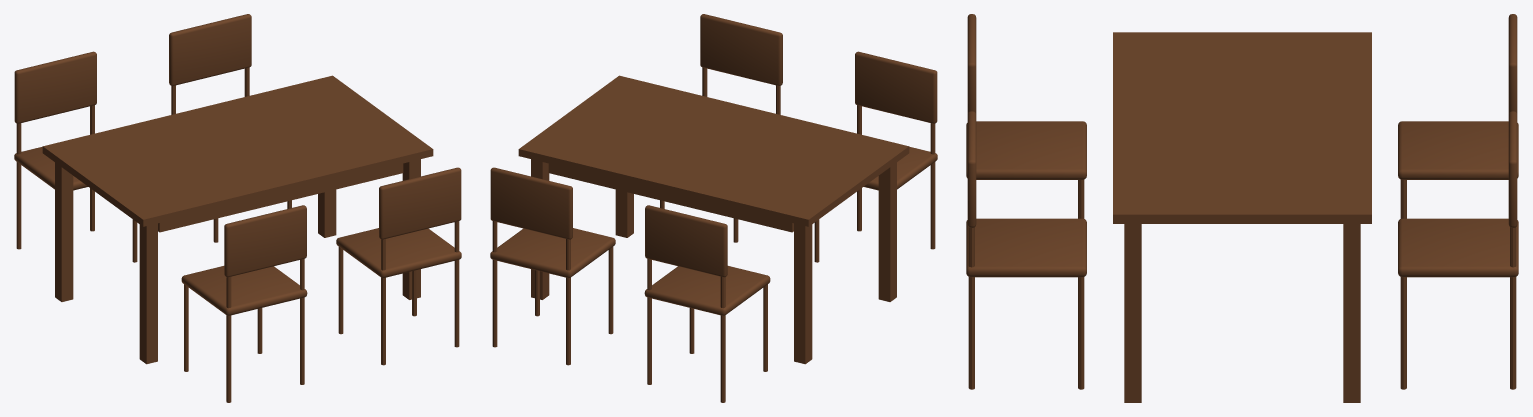
The model's file is home.garden.dining_set.glb.
3 views of the same model, side by side, from view 1: azimuth 30°, elevation 25°; view 2: azimuth 150°, elevation 25°; view 3: azimuth 270°, elevation 25° (orthographic). The views are drawn at different scales.
Visible parts, largest first — view 1: main__hardwood; view 2: main__hardwood; view 3: main__hardwood.
Boxes of the visible parts, x1,y1,x2,y2 form: main__hardwood: [14, 14, 461, 402]; main__hardwood: [490, 14, 937, 402]; main__hardwood: [966, 14, 1518, 402].
Bounding box in the file's own units: 1.5 × 0.88 × 1.92.
